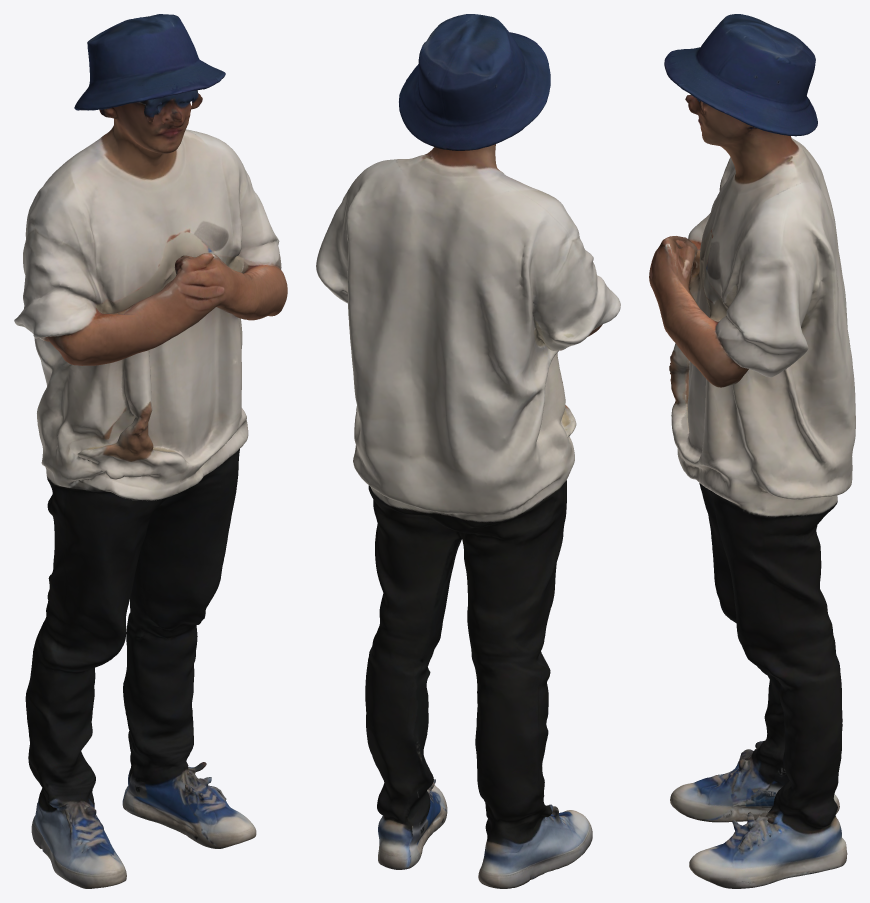
The model's file is abim.glb.
3 renders of one model, left to right at view 1: azimuth 30°, elevation 25°; view 2: azimuth 150°, elevation 25°; view 3: azimuth 270°, elevation 25°, orthographic.
Bounding box in the file's own units: 0.6696 × 2 × 0.4536.
Materials: 1 (1 with a texture image).
